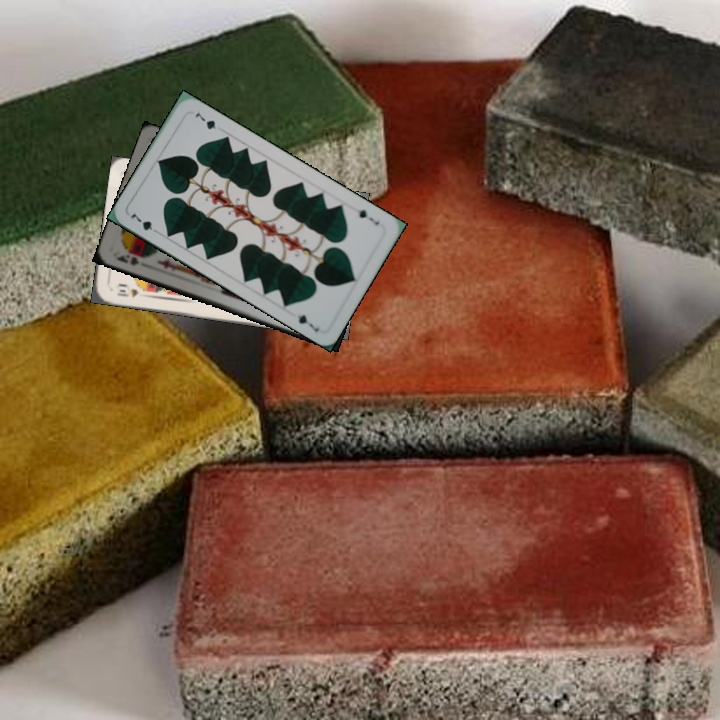G7: (126, 207, 162, 237), (349, 203, 382, 228)
S10: (112, 282, 141, 300)
SK: (112, 248, 148, 268)
